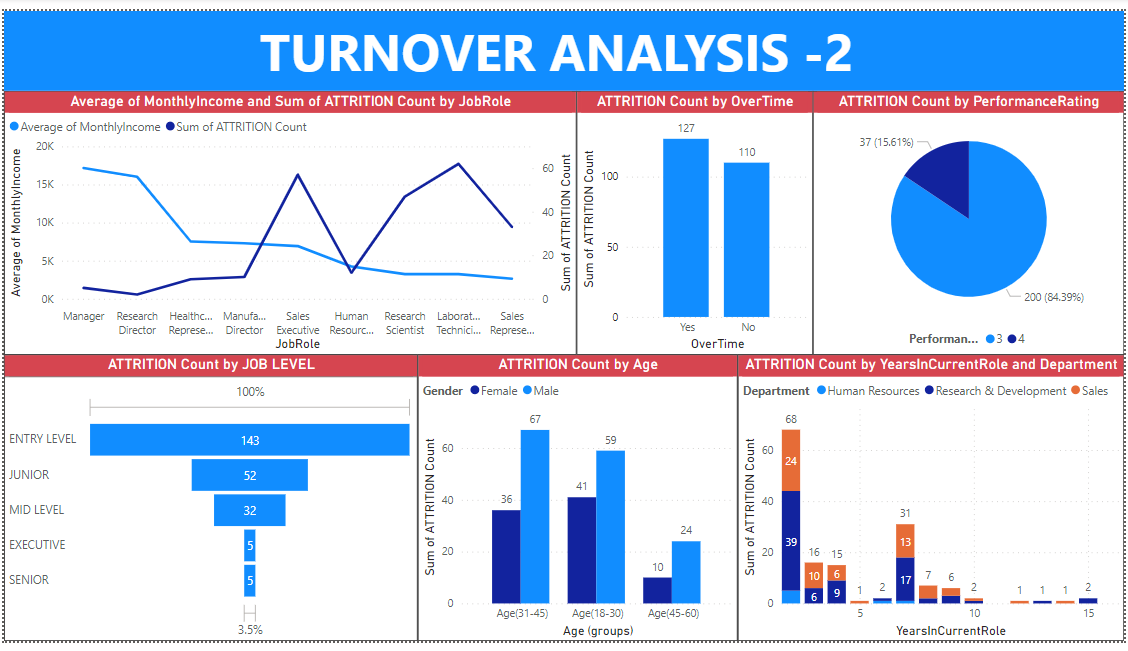

The page's visual inventory and layout, read from the dashboard file:
{"tool":"powerbi","page":{"name":"Page 3","canvas":[1280,720],"ordinal":2},"visuals":[{"type":"lineChart","fields":{"Category":["HR-Employee-Attrition.JobRole"],"Y2":["Sum(HR-Employee-Attrition.attribution count)"],"Y":["Avg(HR-Employee-Attrition.MonthlyIncome)"]},"box":[0,91.4,654.3,301.4],"z":0},{"type":"pieChart","title":"ATTRITION Count by PerformanceRating","fields":{"Y":["Sum(HR-Employee-Attrition.attribution count)"],"Category":["HR-Employee-Attrition.PerformanceRating"]},"box":[924.3,91.4,355.7,301.4],"z":1},{"type":"columnChart","title":"ATTRITION Count by OverTime","fields":{"Y":["Sum(HR-Employee-Attrition.attribution count)"],"Category":["HR-Employee-Attrition.OverTime"]},"box":[654.3,91.4,270,301.4],"z":2},{"type":"funnel","title":"ATTRITION Count by JOB LEVEL","fields":{"Y":["Sum(HR-Employee-Attrition.attribution count)"],"Category":["HR-Employee-Attrition.JOB LEVEL"]},"box":[0,392.9,472.9,327.1],"z":3},{"type":"columnChart","title":"ATTRITION Count by YearsInCurrentRole and Department","fields":{"Category":["HR-Employee-Attrition.YearsInCurrentRole"],"Y":["Sum(HR-Employee-Attrition.attribution count)"],"Series":["HR-Employee-Attrition.Department"]},"box":[838.6,392.9,441.4,327.1],"z":4},{"type":"clusteredColumnChart","title":"ATTRITION Count by Age ","fields":{"Y":["Sum(HR-Employee-Attrition.attribution count)"],"Category":["HR-Employee-Attrition.Age (groups)"],"Series":["HR-Employee-Attrition.Gender"]},"box":[472.9,392.9,365.7,327.1],"z":5},{"type":"textbox","box":[0,0,1280,91.4],"z":6}]}

Visuals, with their boxes in screenshot pixels (x1, y1, x2, y2), scaled from the page's 1280x720 canvas onto the 1128x651 screenshot:
lineChart - HR-Employee-Attrition.JobRole x Sum(HR-Employee-Attrition.attribution count): bbox(0, 83, 577, 355)
"ATTRITION Count by PerformanceRating" pieChart: bbox(815, 83, 1127, 355)
"ATTRITION Count by OverTime" columnChart: bbox(577, 83, 815, 355)
"ATTRITION Count by JOB LEVEL" funnel: bbox(0, 355, 417, 650)
"ATTRITION Count by YearsInCurrentRole and Department" columnChart: bbox(739, 355, 1127, 650)
"ATTRITION Count by Age " clusteredColumnChart: bbox(417, 355, 739, 650)
textbox: bbox(0, 0, 1127, 83)
